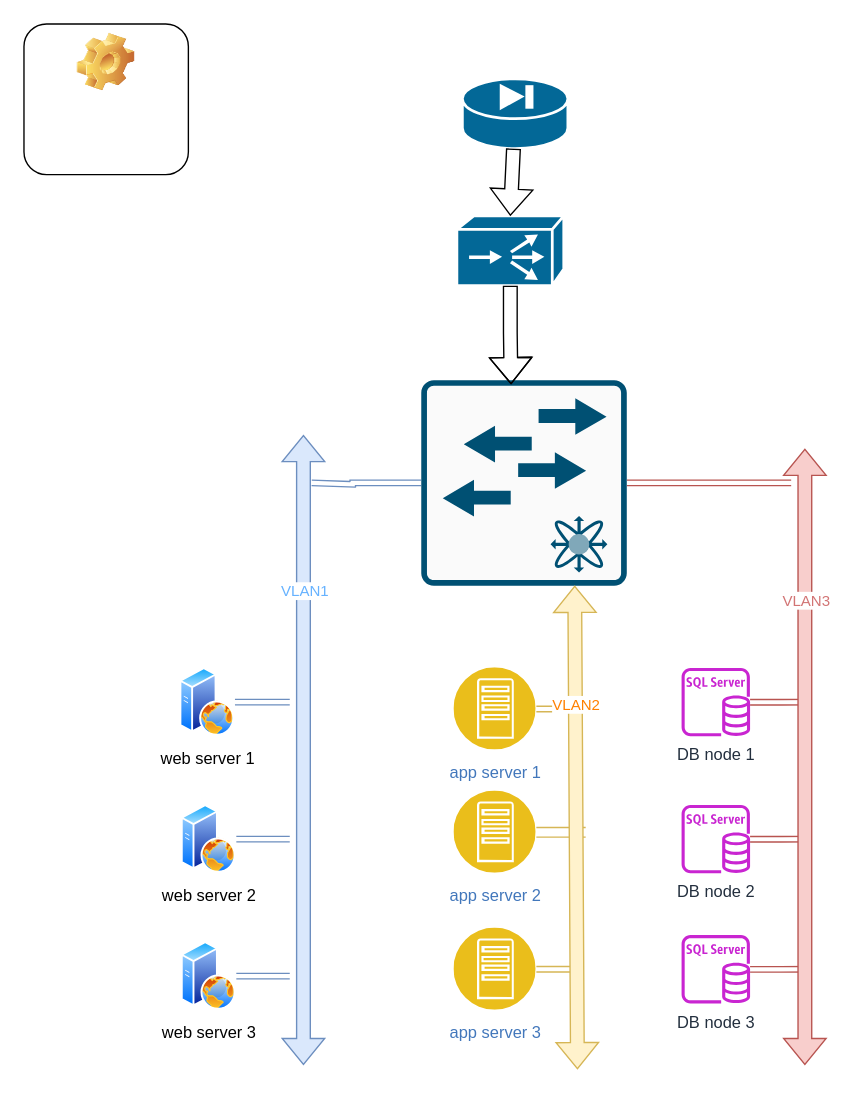
The diagram is 854 pixels wide and 1093 high, and some of its shapes have lost their labels. The shapes that lost their labels are listed below. From the top down, each one's centre as x and y in pixels, then its label:
At (105,99): "3-tier Segregation using VLANs".
At (514,113): "ASA".
At (523,482): "Nexus 5K Switch".
